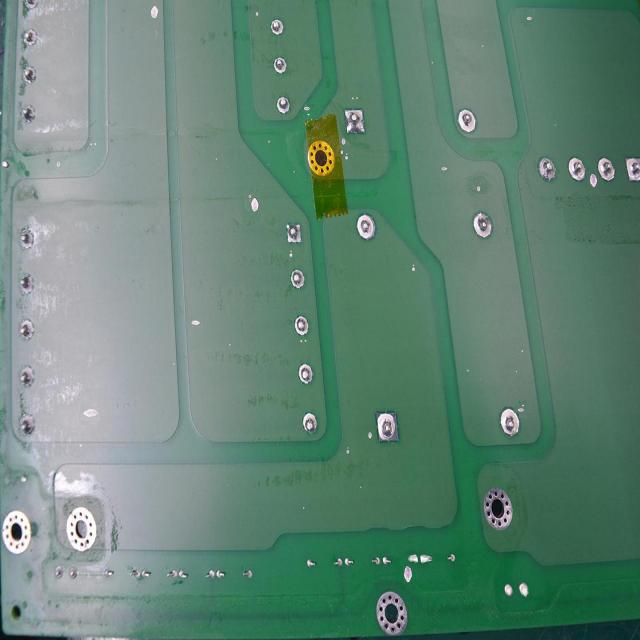spillover: (242, 187, 260, 222), (340, 130, 352, 169), (80, 405, 99, 424), (186, 314, 202, 330), (150, 5, 162, 25), (522, 11, 537, 25), (434, 161, 448, 175), (517, 403, 529, 416), (304, 104, 314, 115)
